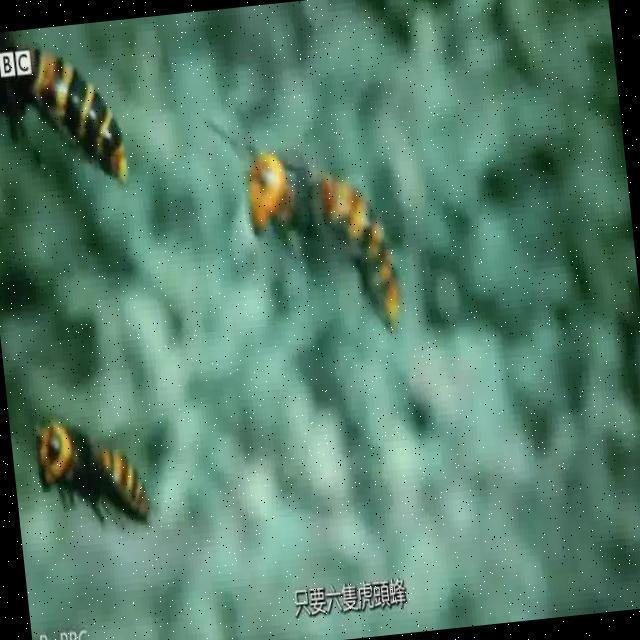Wasp: (222, 110, 422, 338), (23, 394, 154, 532)
